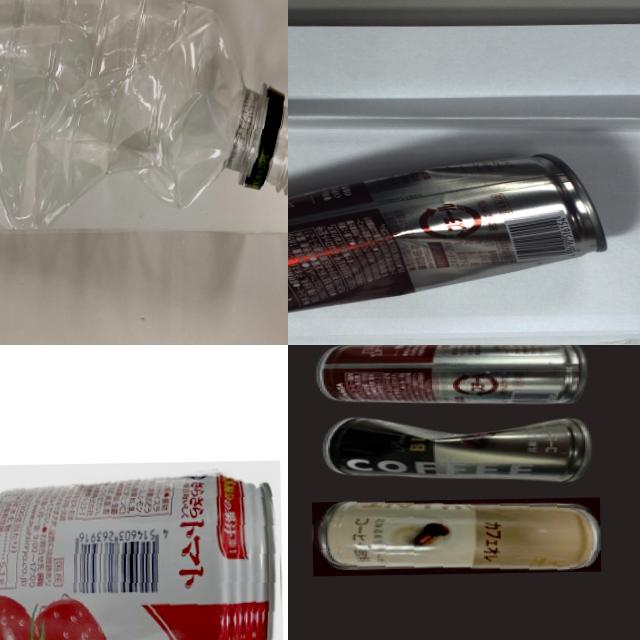Aluminium Foil: (288, 153, 607, 316)
Can: (0, 459, 284, 640), (312, 496, 600, 575), (314, 416, 598, 484), (311, 345, 586, 405)
Transparent Plastic Bottle: (0, 0, 288, 236)
